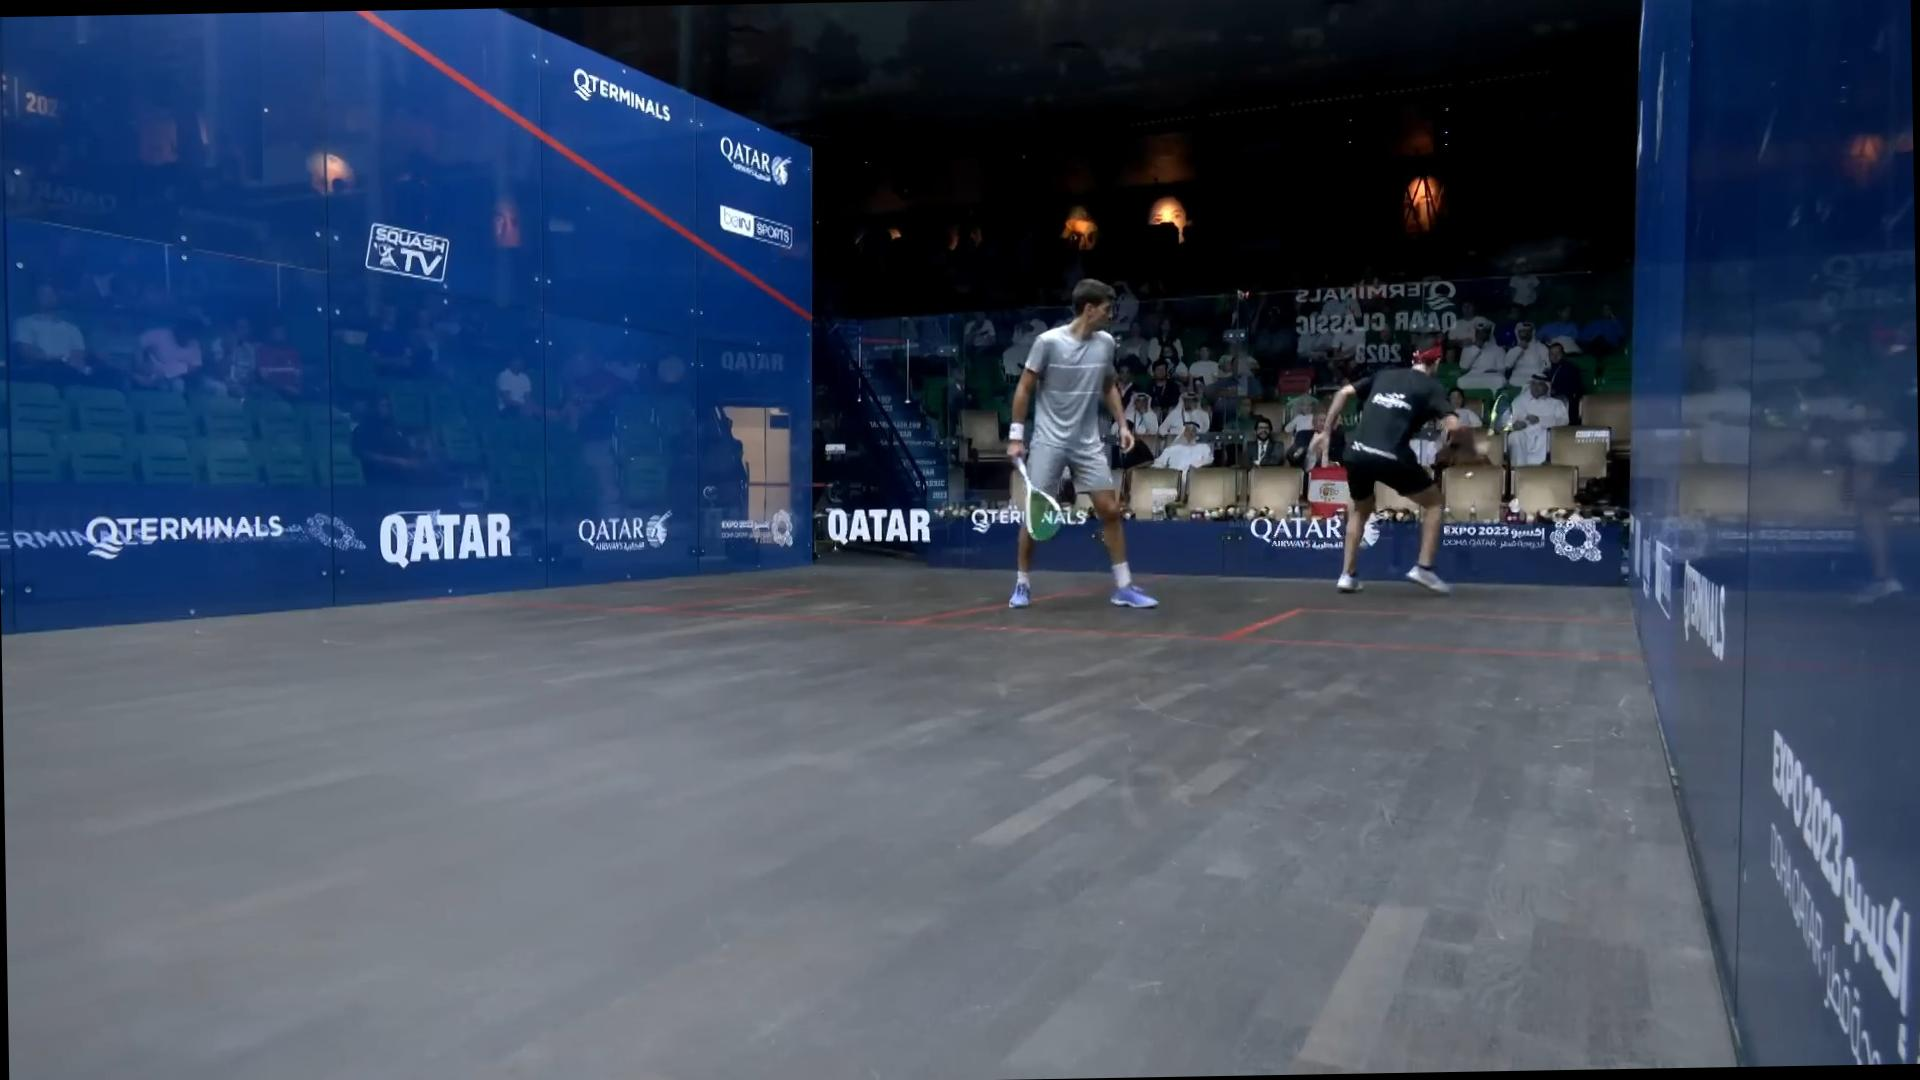Racket: (1013, 459, 1068, 543), (1478, 389, 1520, 446)
